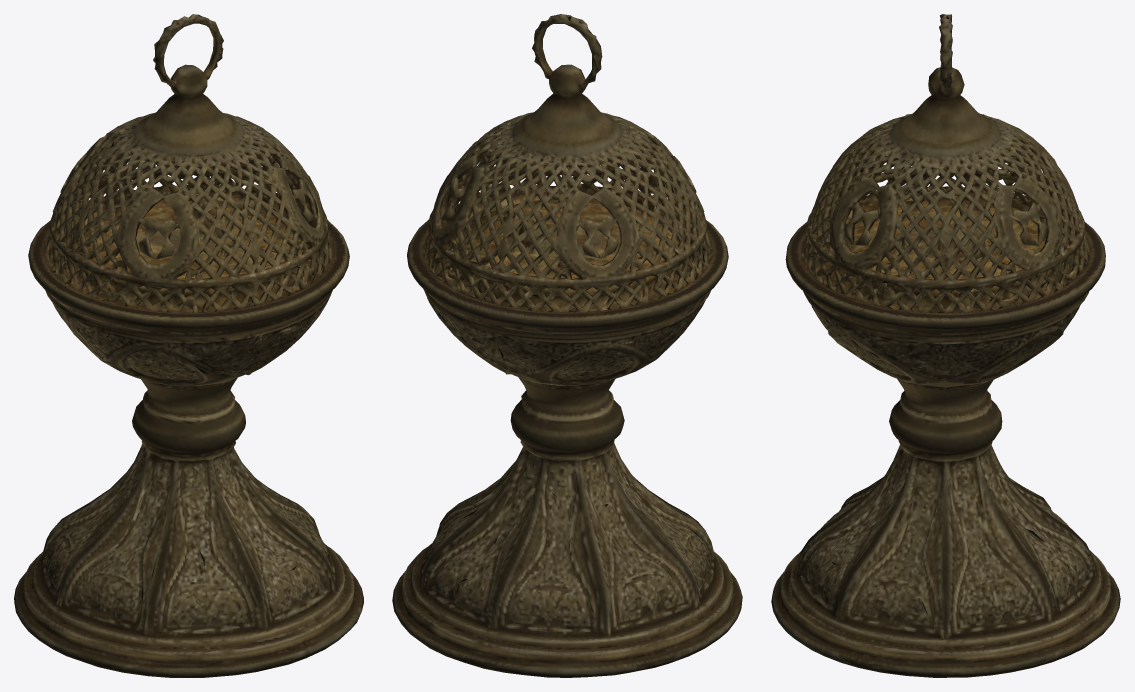
File: Ornate_Golden_Censer.fbx
The picture shows the model from 3 angles, left to right: view 1: azimuth 30°, elevation 25°; view 2: azimuth 150°, elevation 25°; view 3: azimuth 270°, elevation 25°; orthographic projection.
Visible parts, largest first — view 1: Ornate_Golden_Censer_LOD0; view 2: Ornate_Golden_Censer_LOD0; view 3: Ornate_Golden_Censer_LOD0.
Boxes of the visible parts, left/top/right/bottom form: Ornate_Golden_Censer_LOD0: left=14, top=14, right=363, bottom=677; Ornate_Golden_Censer_LOD0: left=392, top=14, right=742, bottom=677; Ornate_Golden_Censer_LOD0: left=771, top=14, right=1120, bottom=677.
Size of what is drawn, in the model's own units: 1.02 by 1.9 by 1.02.
1 material, 1 textured.
